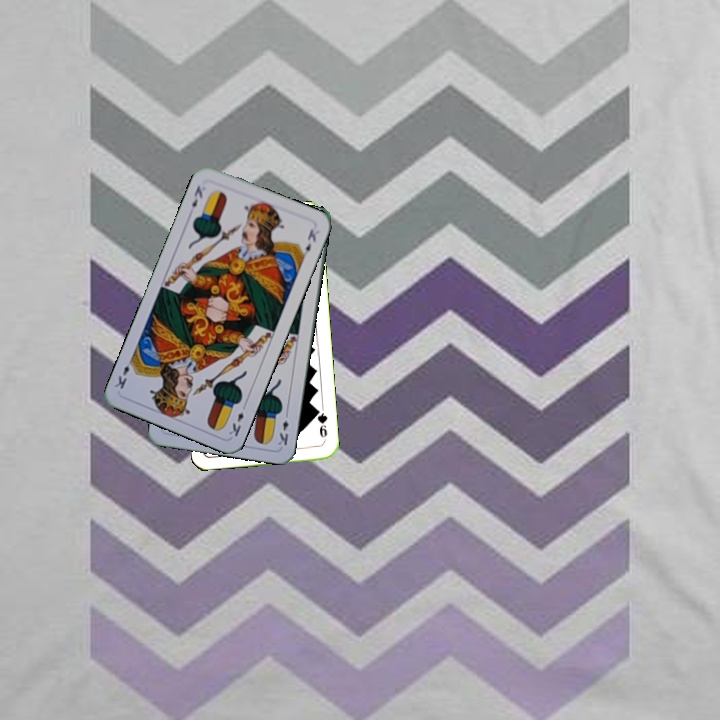EK: (225, 399, 249, 439), (274, 408, 291, 448), (188, 181, 205, 210)
G9: (312, 405, 330, 445)
